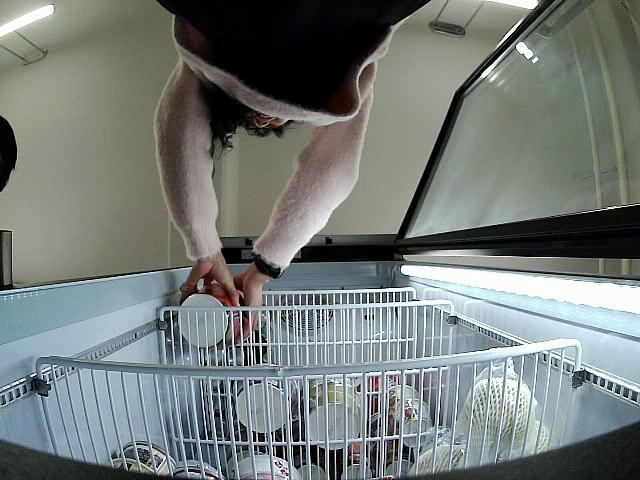00_hand: (174, 254, 236, 300), (235, 273, 262, 346)
01_shinRamen_L: (177, 294, 246, 351)
